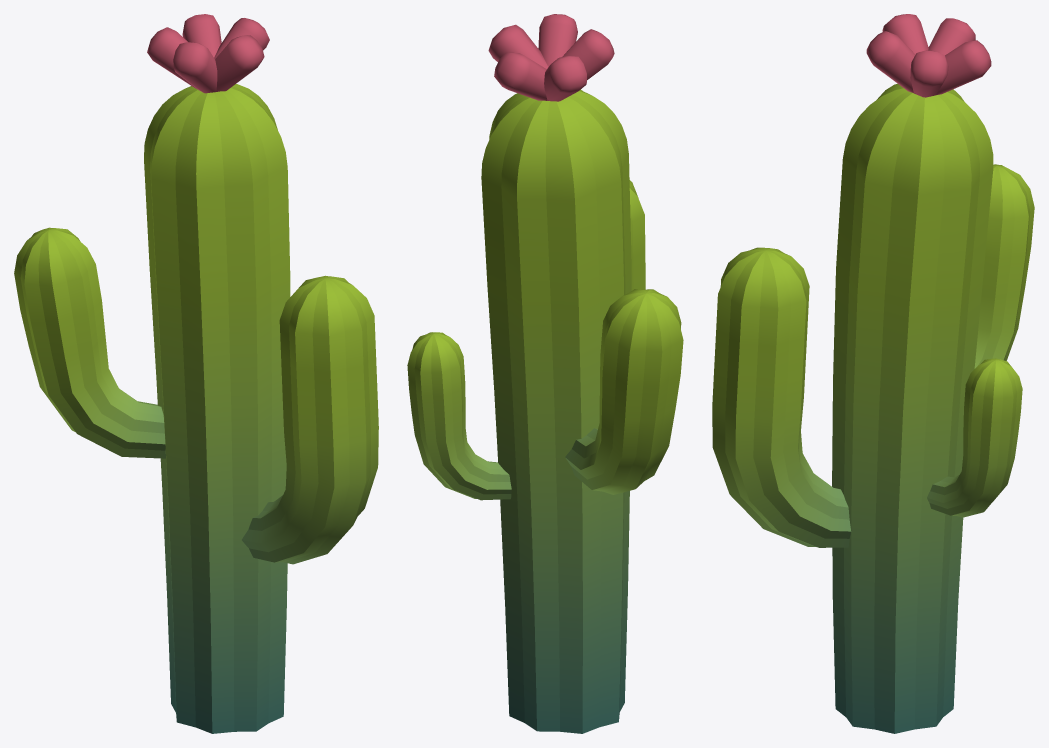
The picture shows the model from 3 angles, left to right: view 1: azimuth 30°, elevation 25°; view 2: azimuth 150°, elevation 25°; view 3: azimuth 270°, elevation 25°; orthographic projection. The views are drawn at different scales.
Visible parts, largest first — view 1: LOD 0_7895142726789826799_f747010238922ae448abd02d66270030; view 2: LOD 0_7895142726789826799_f747010238922ae448abd02d66270030; view 3: LOD 0_7895142726789826799_f747010238922ae448abd02d66270030.
Part boxes in pixels (x1,y1,x2,y2): LOD 0_7895142726789826799_f747010238922ae448abd02d66270030: [14, 14, 378, 733]; LOD 0_7895142726789826799_f747010238922ae448abd02d66270030: [407, 14, 683, 733]; LOD 0_7895142726789826799_f747010238922ae448abd02d66270030: [712, 14, 1034, 733].
Bounding box in the file's own units: 1.09 × 2.67 × 1.15.
